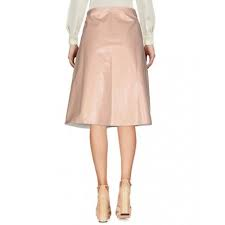C_skirt: (62, 6, 160, 127)
